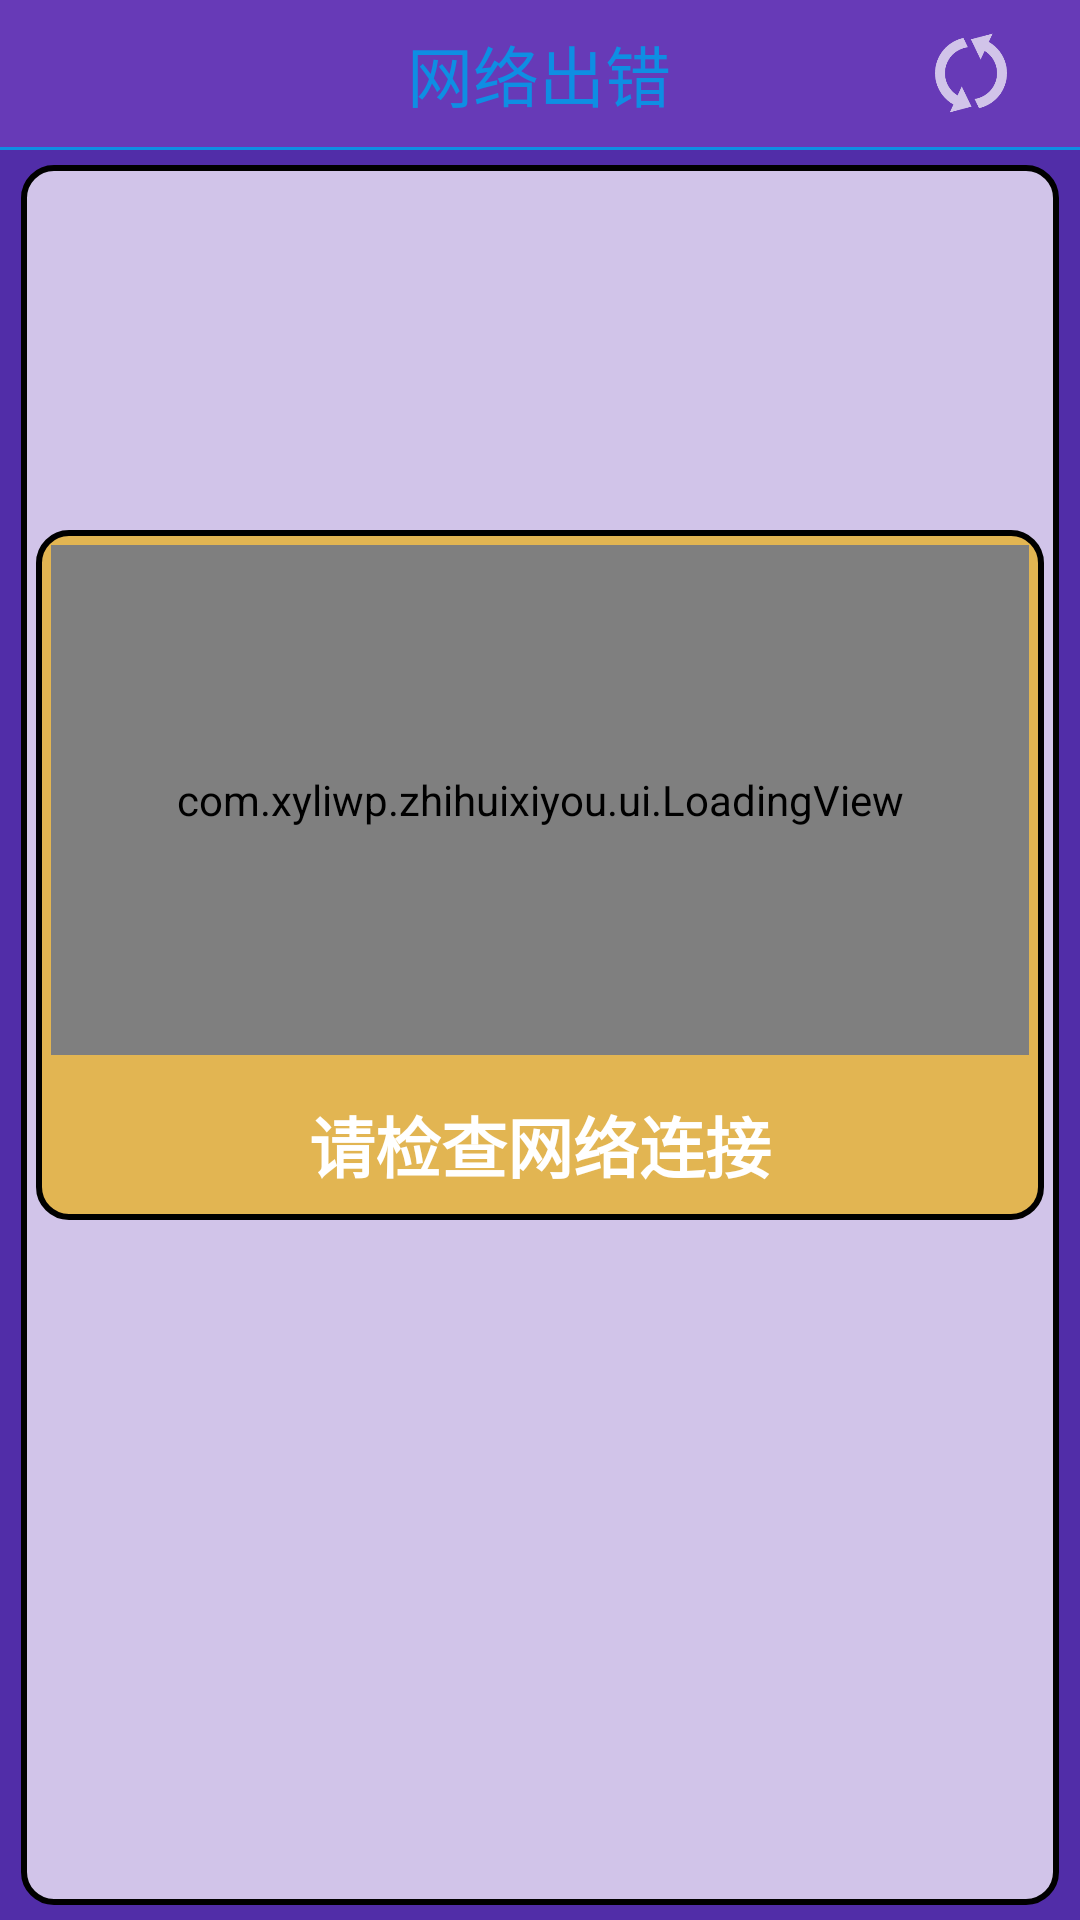

Icons on this 1080px x 1920px Android screen, each with its box as detection(x1, y1, x2, y2):
shuaxin: detection(935, 34, 1007, 112)
